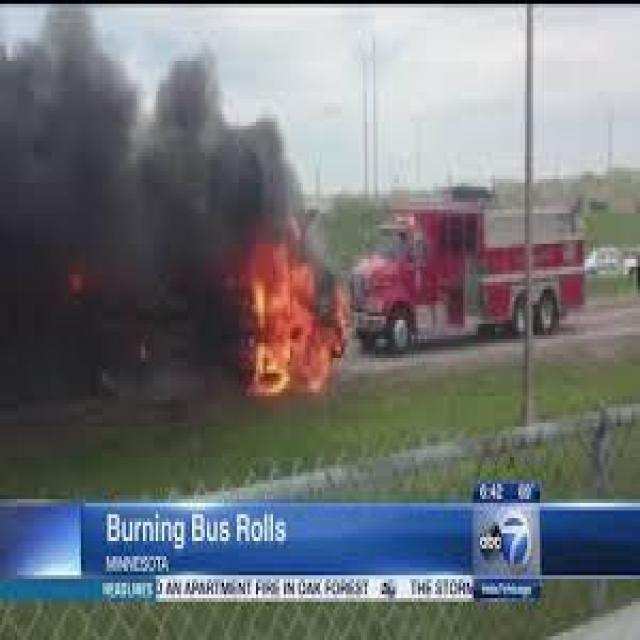fire: (236, 219, 350, 407)
smoke: (0, 0, 243, 389)
